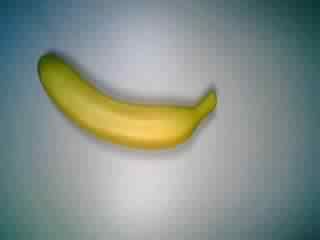banana: (32, 42, 224, 162)
